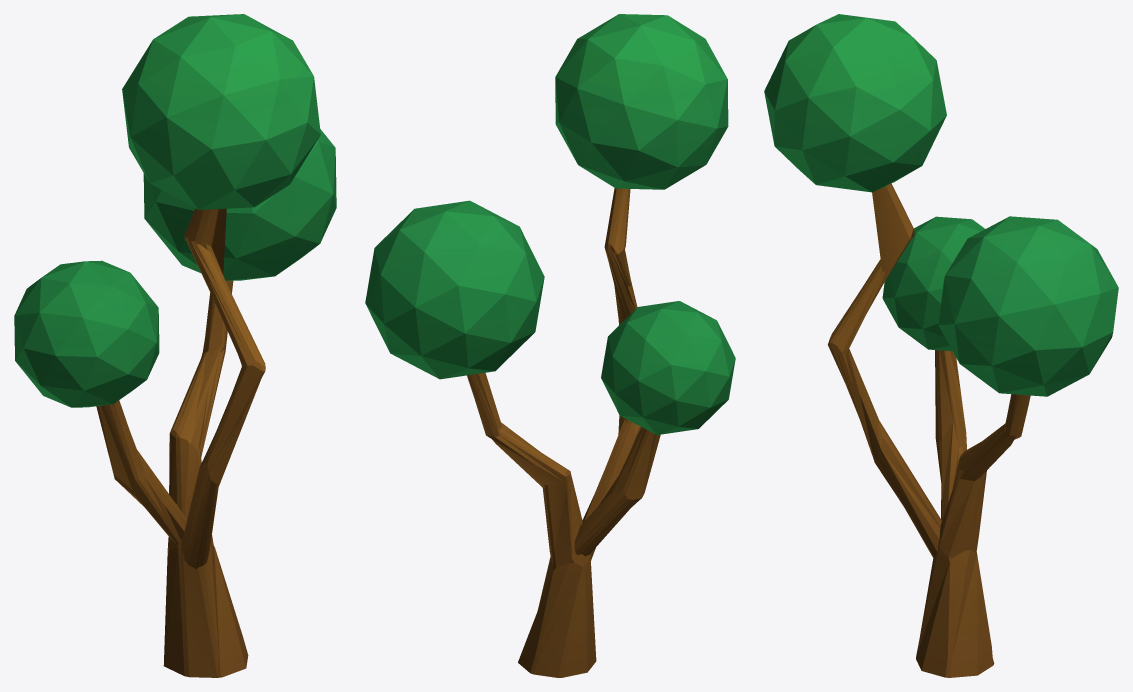
File: tree_trio.glb
3 views of the same model, side by side, from view 1: azimuth 30°, elevation 25°; view 2: azimuth 150°, elevation 25°; view 3: azimuth 270°, elevation 25° (orthographic). The views are drawn at different scales.
Visible parts, largest first — view 1: Poplar Tree_3_AA; view 2: Poplar Tree_3_AA; view 3: Poplar Tree_3_AA.
Boxes of the visible parts, bbox=[...] form: Poplar Tree_3_AA: bbox=[14, 14, 336, 677]; Poplar Tree_3_AA: bbox=[365, 14, 735, 677]; Poplar Tree_3_AA: bbox=[764, 14, 1118, 677].
Bounding box in the file's own units: 1.91 × 3.6 × 1.86.
1 material, 1 textured.
